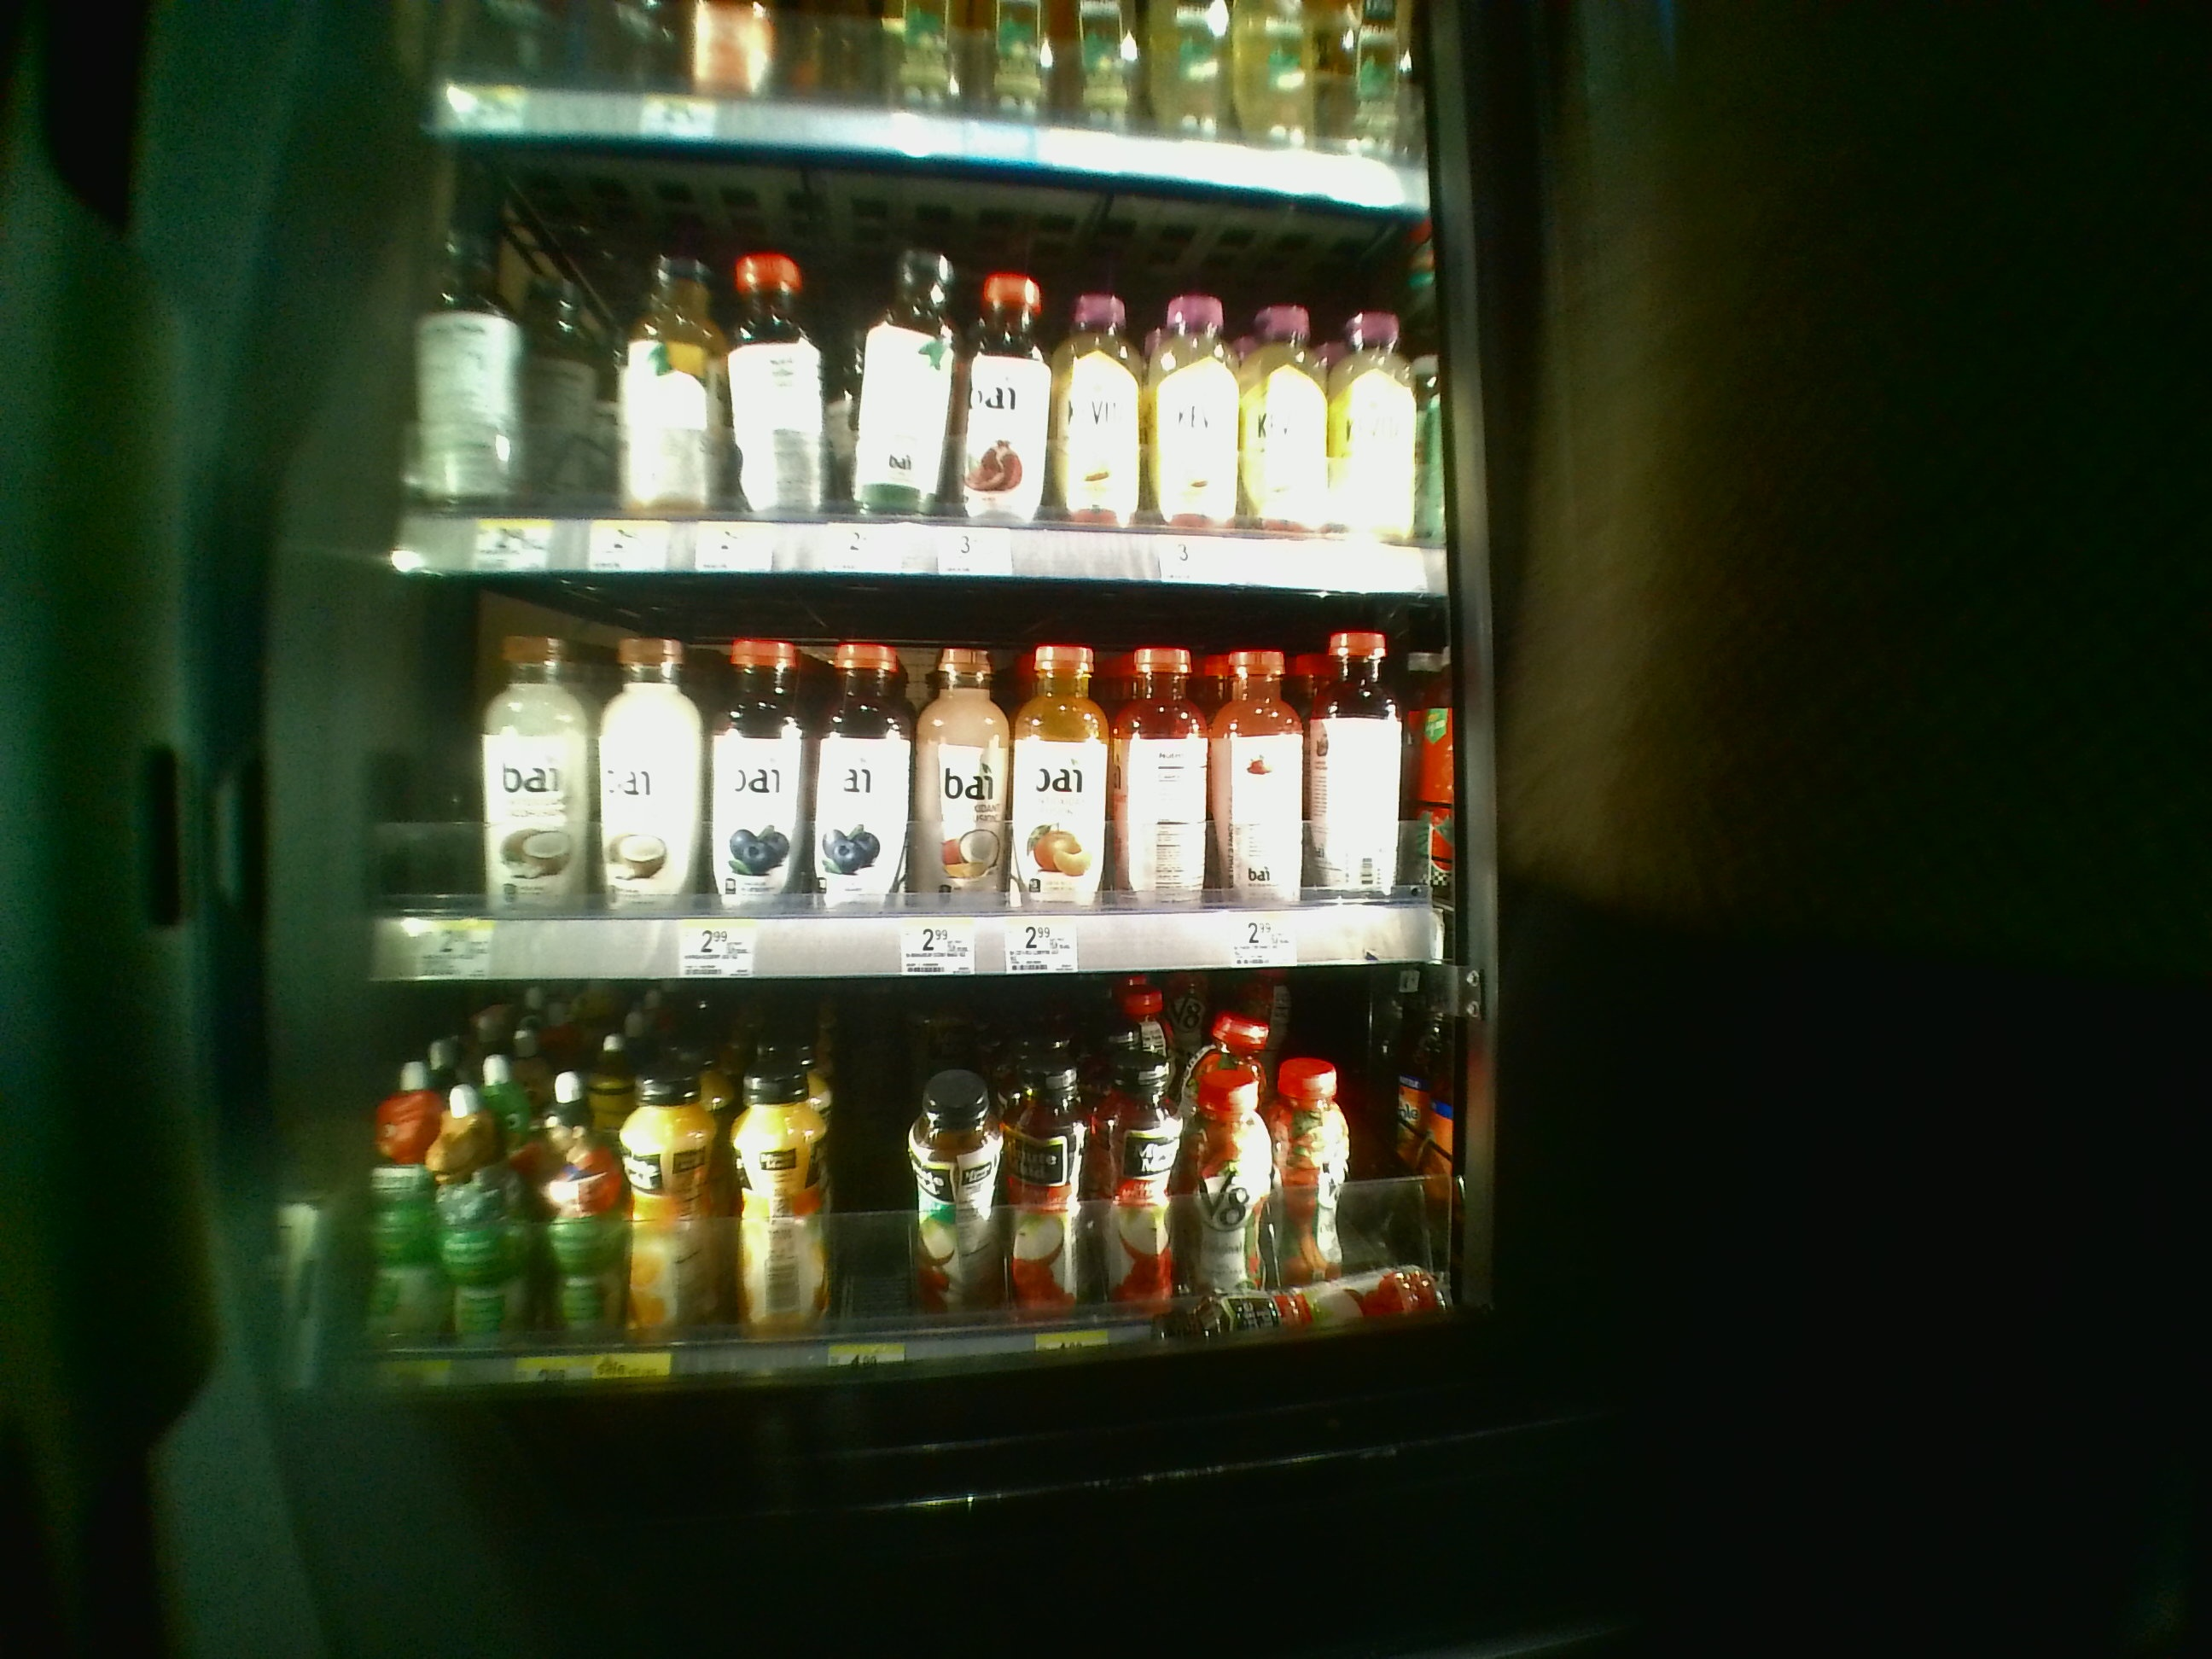shelf: (395, 148, 1446, 579), (371, 995, 1458, 1410), (376, 580, 1451, 983)
